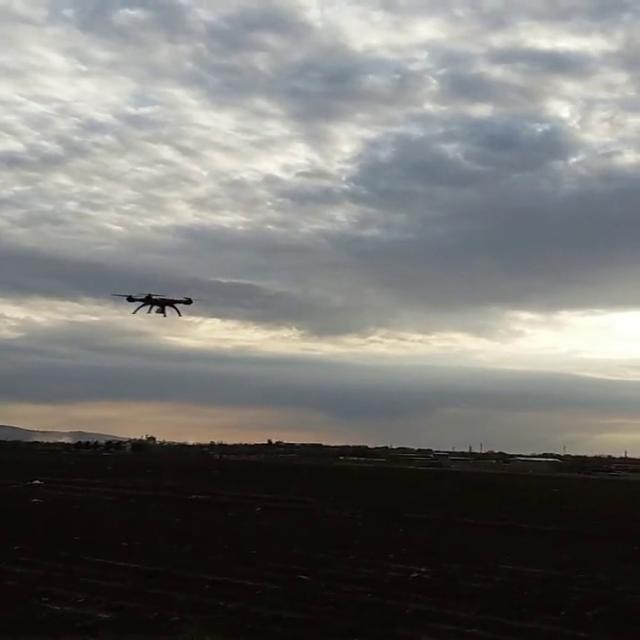drone: (108, 289, 202, 321)
